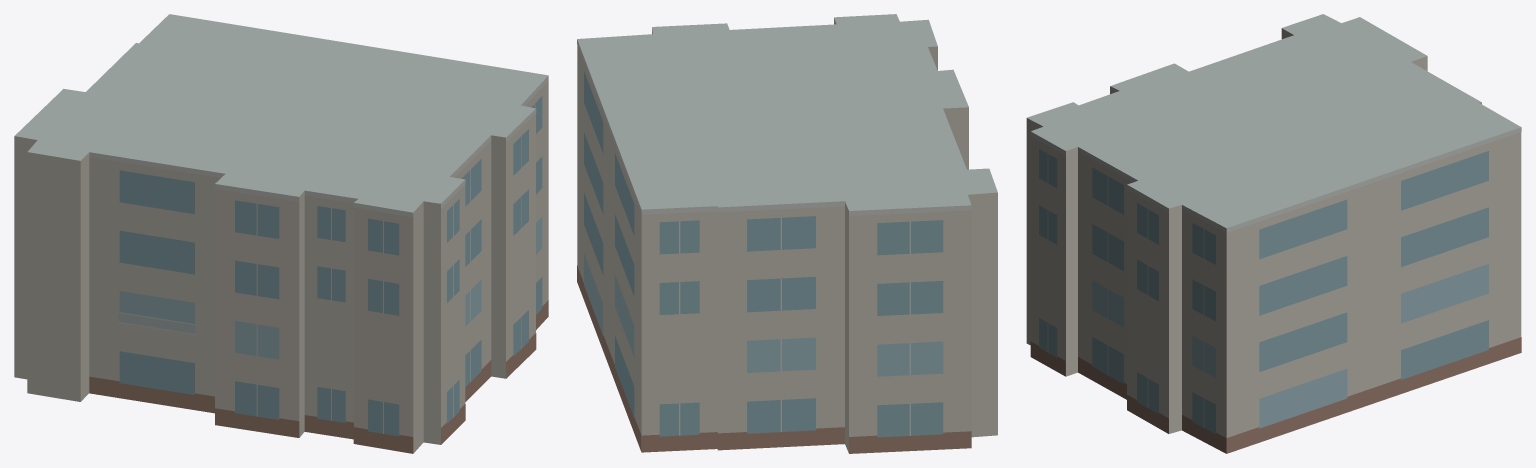
Rendered from survey-upis-32814713.glb.
3 views of the same model, side by side, from view 1: azimuth 30°, elevation 25°; view 2: azimuth 150°, elevation 25°; view 3: azimuth 270°, elevation 25° (orthographic). The views are drawn at different scales.
Parts seen in each view (by area): view 1: survey-upis-32814713.tmp; view 2: survey-upis-32814713.tmp; view 3: survey-upis-32814713.tmp.
Boxes of the visible parts, x1,y1,x2,y2 form: survey-upis-32814713.tmp: (14, 14, 548, 453); survey-upis-32814713.tmp: (577, 14, 997, 453); survey-upis-32814713.tmp: (1026, 14, 1521, 453).
Size of the model in its own units: 23.84 by 11.7 by 23.27.
